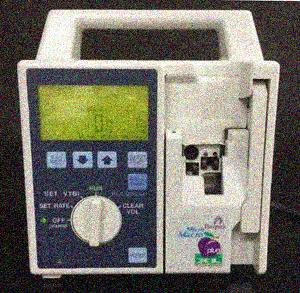plumxl1: (17, 10, 280, 276)
